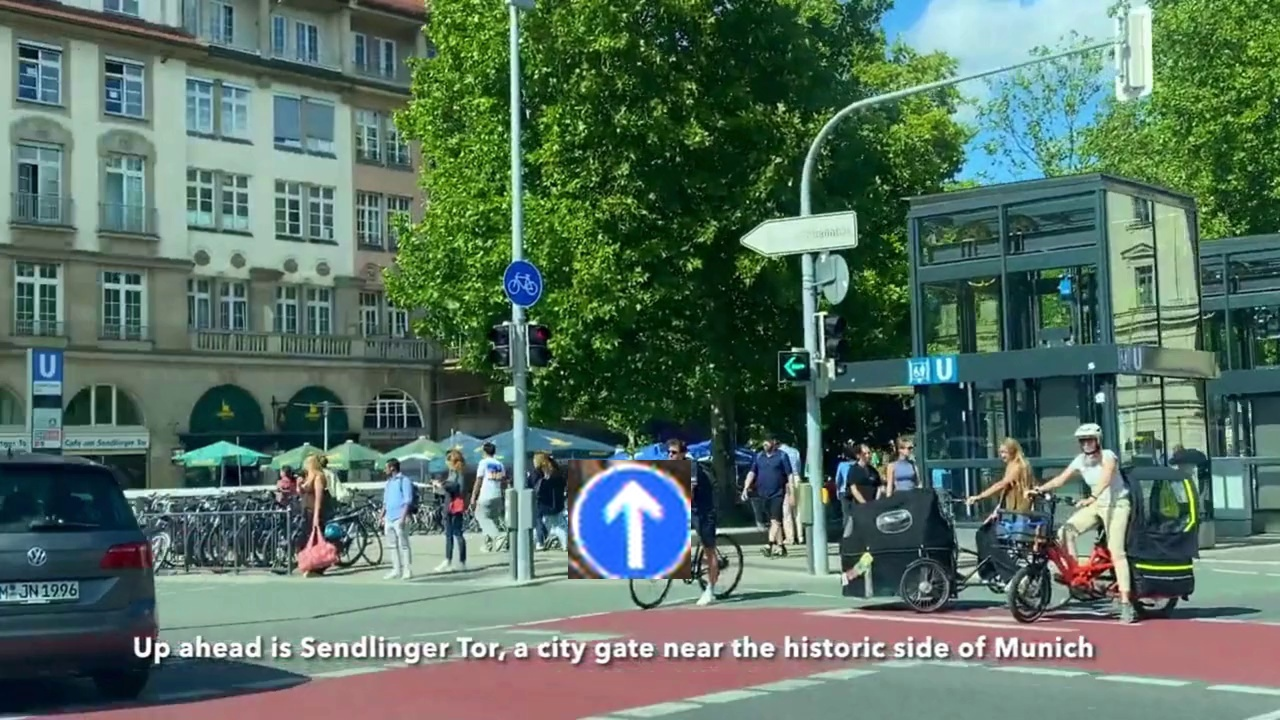Ahead only: (568, 460, 691, 579)
